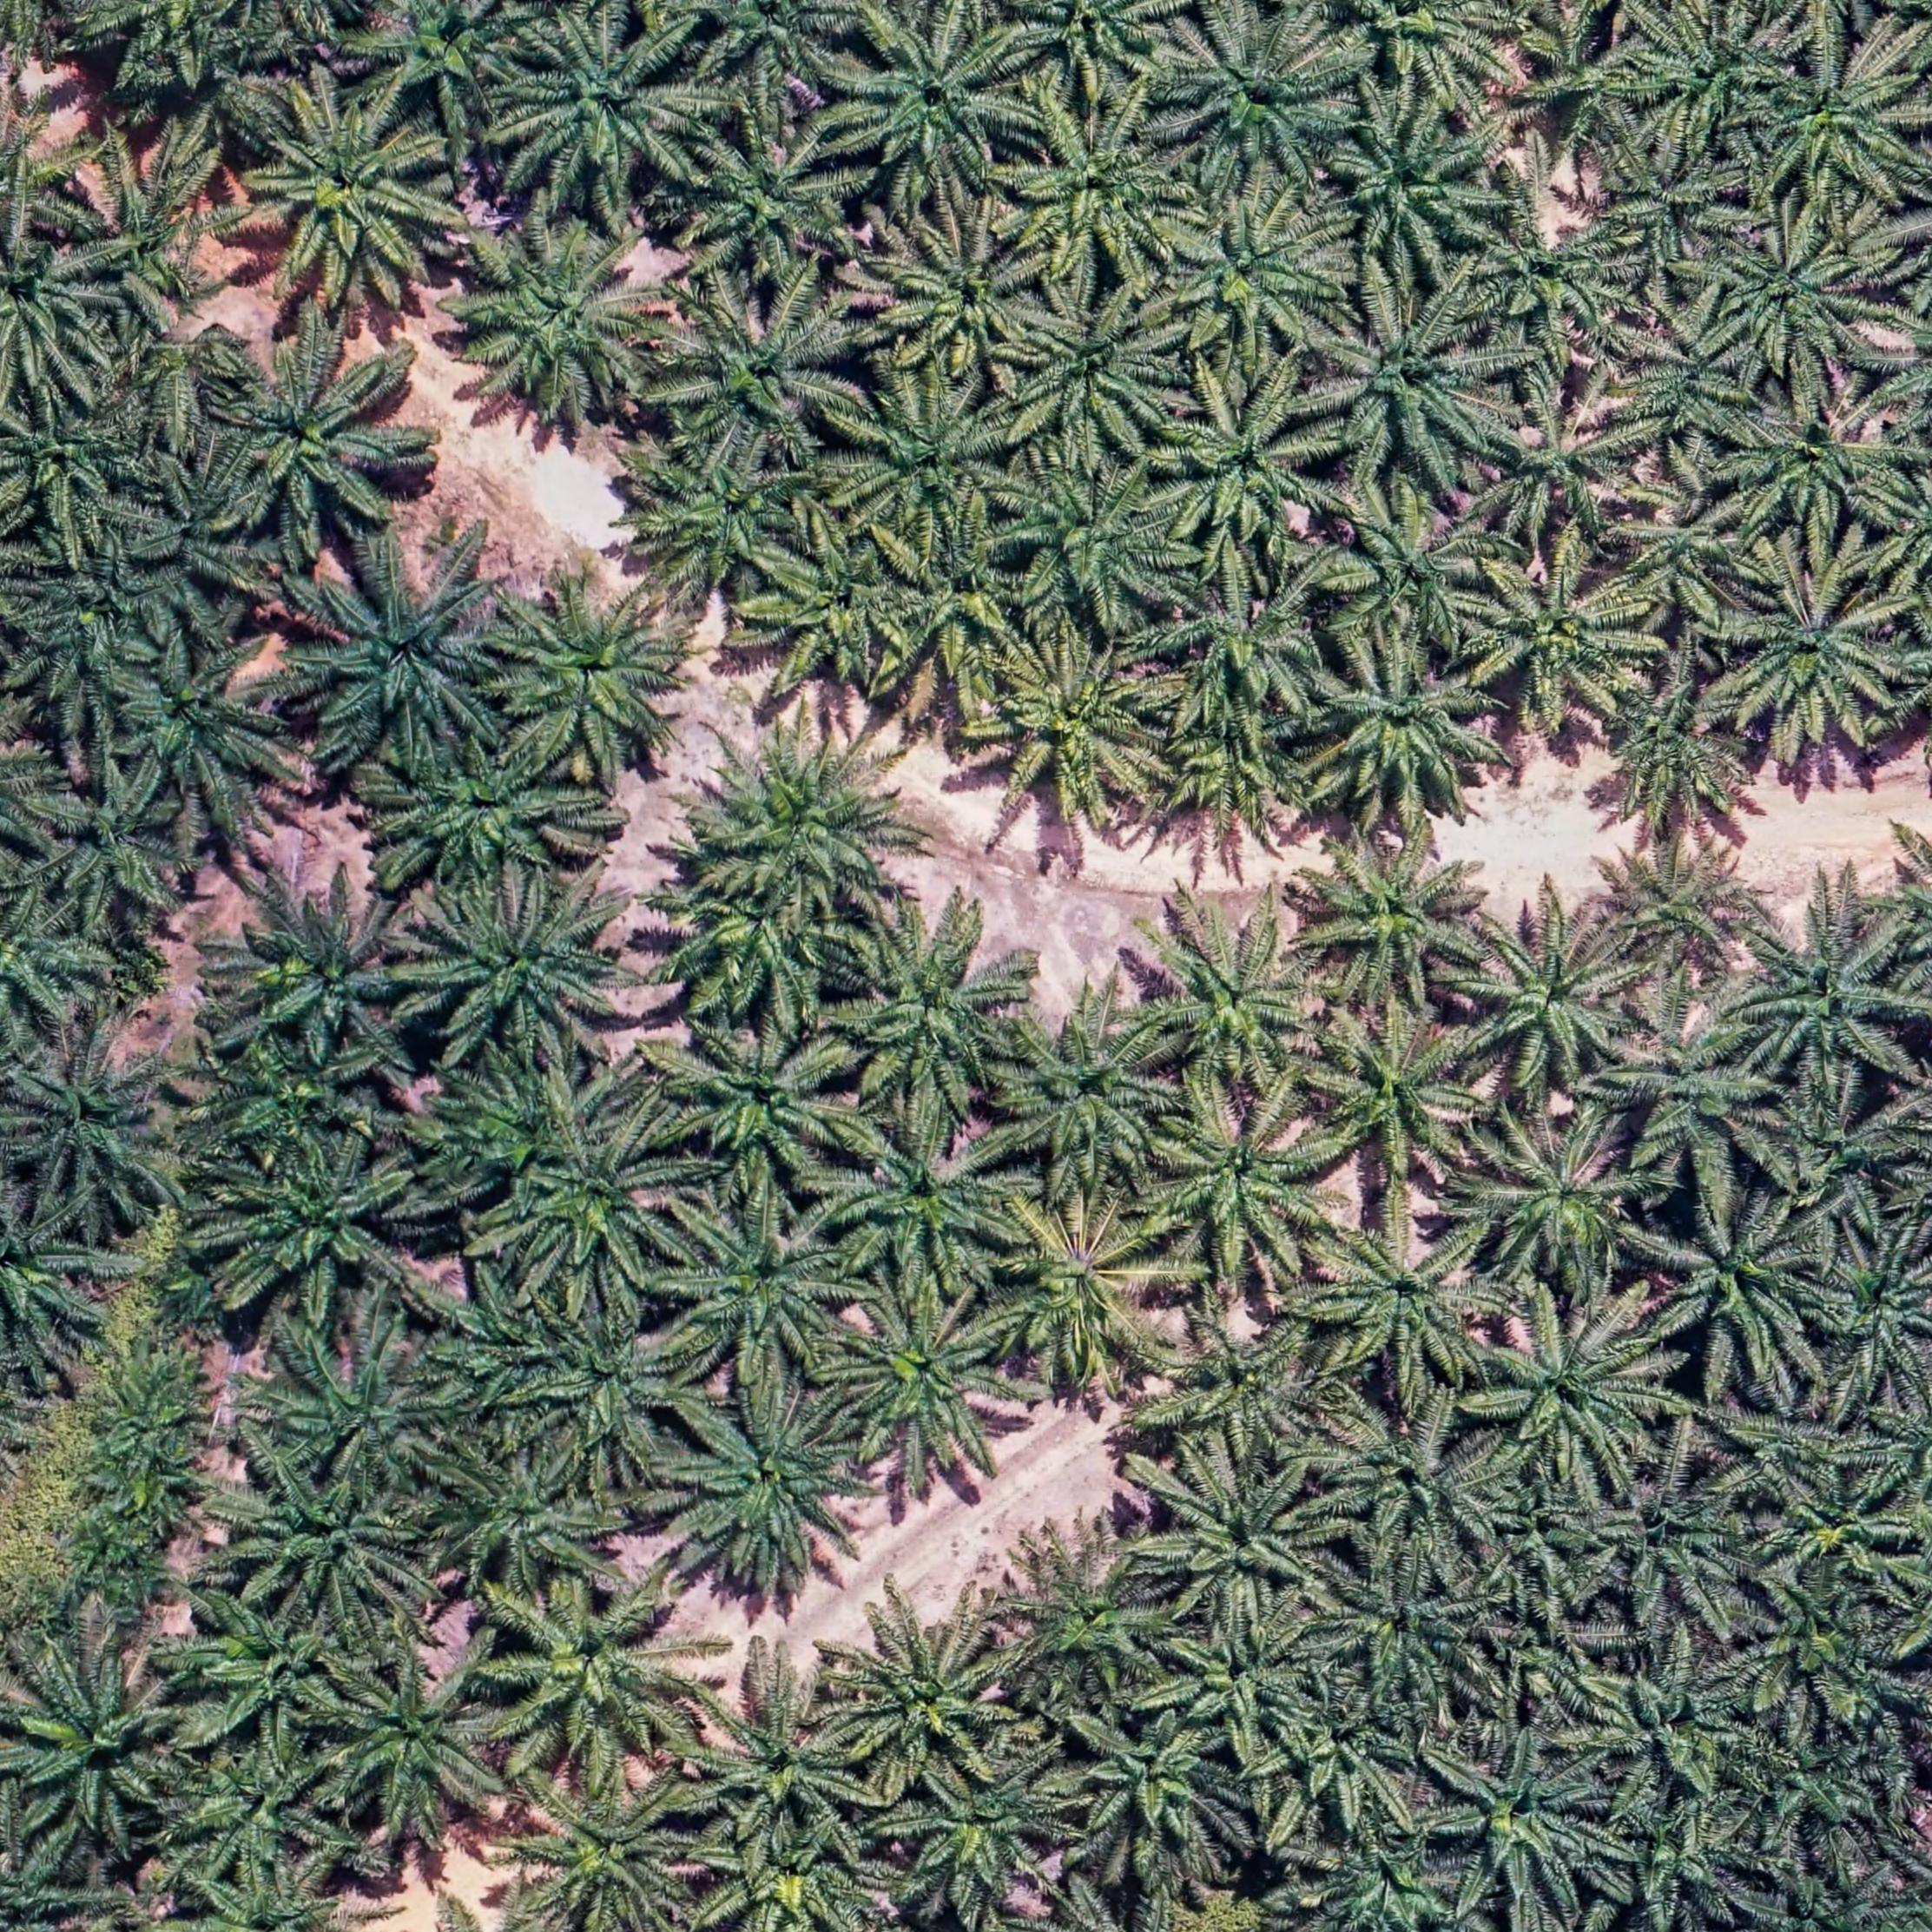palmtree: (672, 704, 938, 934), (283, 538, 518, 763), (232, 83, 458, 306), (205, 863, 439, 1074), (237, 1295, 460, 1514), (439, 216, 672, 423), (655, 1378, 874, 1594), (1566, 1612, 1787, 1824), (474, 1560, 701, 1764), (1553, 1428, 1769, 1640), (205, 333, 419, 545), (476, 564, 692, 773), (407, 869, 637, 1063), (729, 499, 936, 711), (644, 272, 865, 467), (209, 1127, 430, 1320), (830, 899, 1033, 1108), (492, 7, 699, 203), (74, 115, 253, 341), (0, 518, 200, 720), (317, 1642, 518, 1836), (219, 1442, 433, 1624), (828, 1283, 1026, 1479), (1145, 1079, 1343, 1276), (985, 991, 1185, 1185), (676, 1667, 878, 1859), (658, 870, 867, 1056), (1716, 550, 1913, 747), (1297, 632, 1500, 821), (1306, 278, 1504, 471), (1300, 1198, 1500, 1389), (1293, 826, 1491, 1017), (1470, 1290, 1672, 1477), (1635, 1185, 1829, 1378), (1138, 895, 1334, 1086), (835, 7, 1037, 193), (982, 1191, 1177, 1382), (1454, 899, 1651, 1088), (1299, 1000, 1493, 1189), (982, 633, 1177, 823), (1737, 1054, 1932, 1244), (5, 1638, 193, 1835), (504, 1752, 708, 1930), (499, 1099, 686, 1292), (1449, 188, 1635, 382), (987, 449, 1185, 630), (1146, 1445, 1341, 1628), (858, 202, 1054, 382), (1154, 364, 1341, 552), (1730, 901, 1920, 1086), (7, 1021, 191, 1212), (671, 108, 863, 290), (384, 729, 589, 899), (832, 1106, 1026, 1284), (662, 1194, 855, 1373), (1315, 1391, 1507, 1569), (111, 628, 294, 816), (1467, 543, 1656, 724), (625, 432, 817, 609), (1159, 189, 1350, 366), (1313, 1546, 1509, 1718), (662, 1012, 860, 1182), (1470, 1104, 1658, 1283), (1311, 476, 1500, 653), (835, 1606, 1026, 1782), (1000, 278, 1185, 456), (1421, 1727, 1610, 1902), (830, 368, 1024, 538), (1021, 81, 1198, 267), (513, 1295, 701, 1470), (177, 1583, 364, 1757), (421, 1428, 614, 1596), (27, 754, 203, 936), (1152, 1295, 1341, 1465), (1587, 658, 1764, 837), (1154, 557, 1339, 727), (1316, 99, 1499, 271), (1472, 373, 1654, 545), (1704, 209, 1891, 375), (1054, 1700, 1244, 1865), (671, 1799, 904, 1932), (996, 1532, 1180, 1700), (886, 1743, 1074, 1907), (1161, 9, 1350, 172), (157, 1736, 343, 1900), (1720, 373, 1909, 534), (0, 379, 156, 570), (879, 497, 1051, 663), (1598, 817, 1771, 982), (1746, 42, 1920, 196), (347, 0, 545, 131), (1161, 1608, 1327, 1760), (0, 1177, 106, 1384), (1638, 5, 1796, 143), (1311, 0, 1513, 104), (0, 878, 113, 1062), (1805, 1224, 1932, 1384), (1516, 0, 1644, 159), (669, 0, 865, 99), (0, 226, 115, 393), (1005, 0, 1178, 110), (156, 1845, 373, 1932), (1295, 1829, 1468, 1932)
